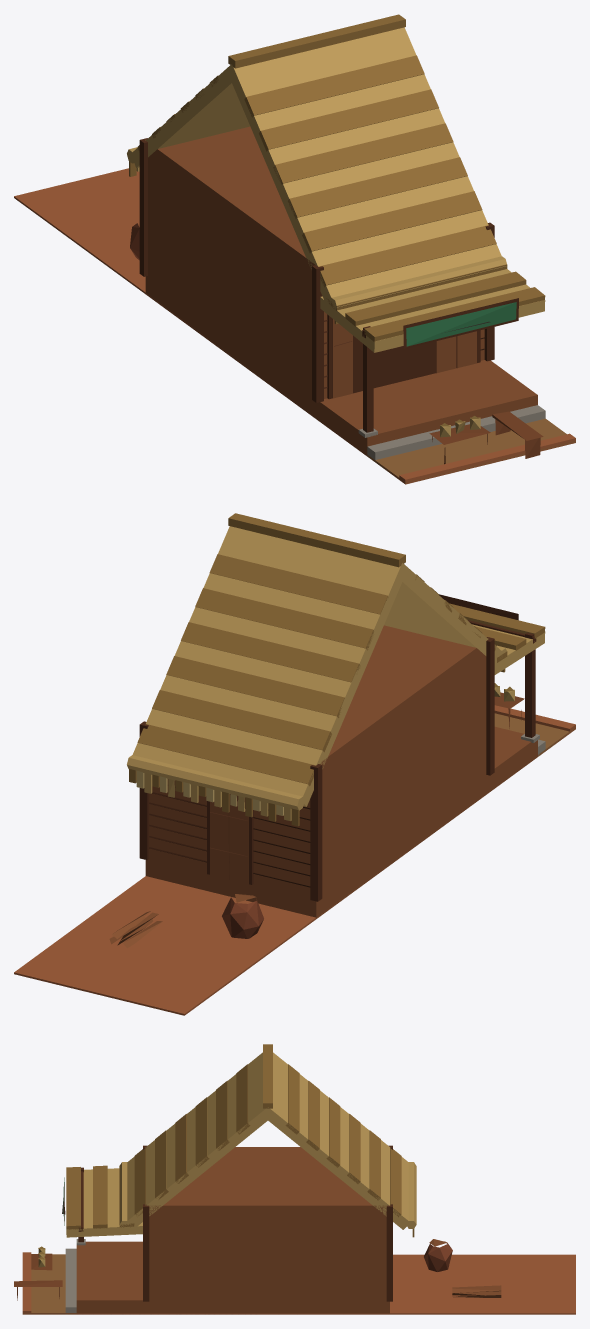
File: bay1_mid2.glb
3 renders of one model, top to bottom at view 1: azimuth 30°, elevation 25°; view 2: azimuth 150°, elevation 25°; view 3: azimuth 270°, elevation 25°, orthographic. The views are drawn at different scales.
Parts seen in each view (by area): view 1: body; view 2: body; view 3: body.
Boxes of the visible parts, left/top/right/bottom form: body: left=14, top=14, right=575, bottom=484; body: left=14, top=513, right=575, bottom=1015; body: left=14, top=1044, right=575, bottom=1314.
Size of the model in its own units: 4.18 by 6.71 by 16.15.
